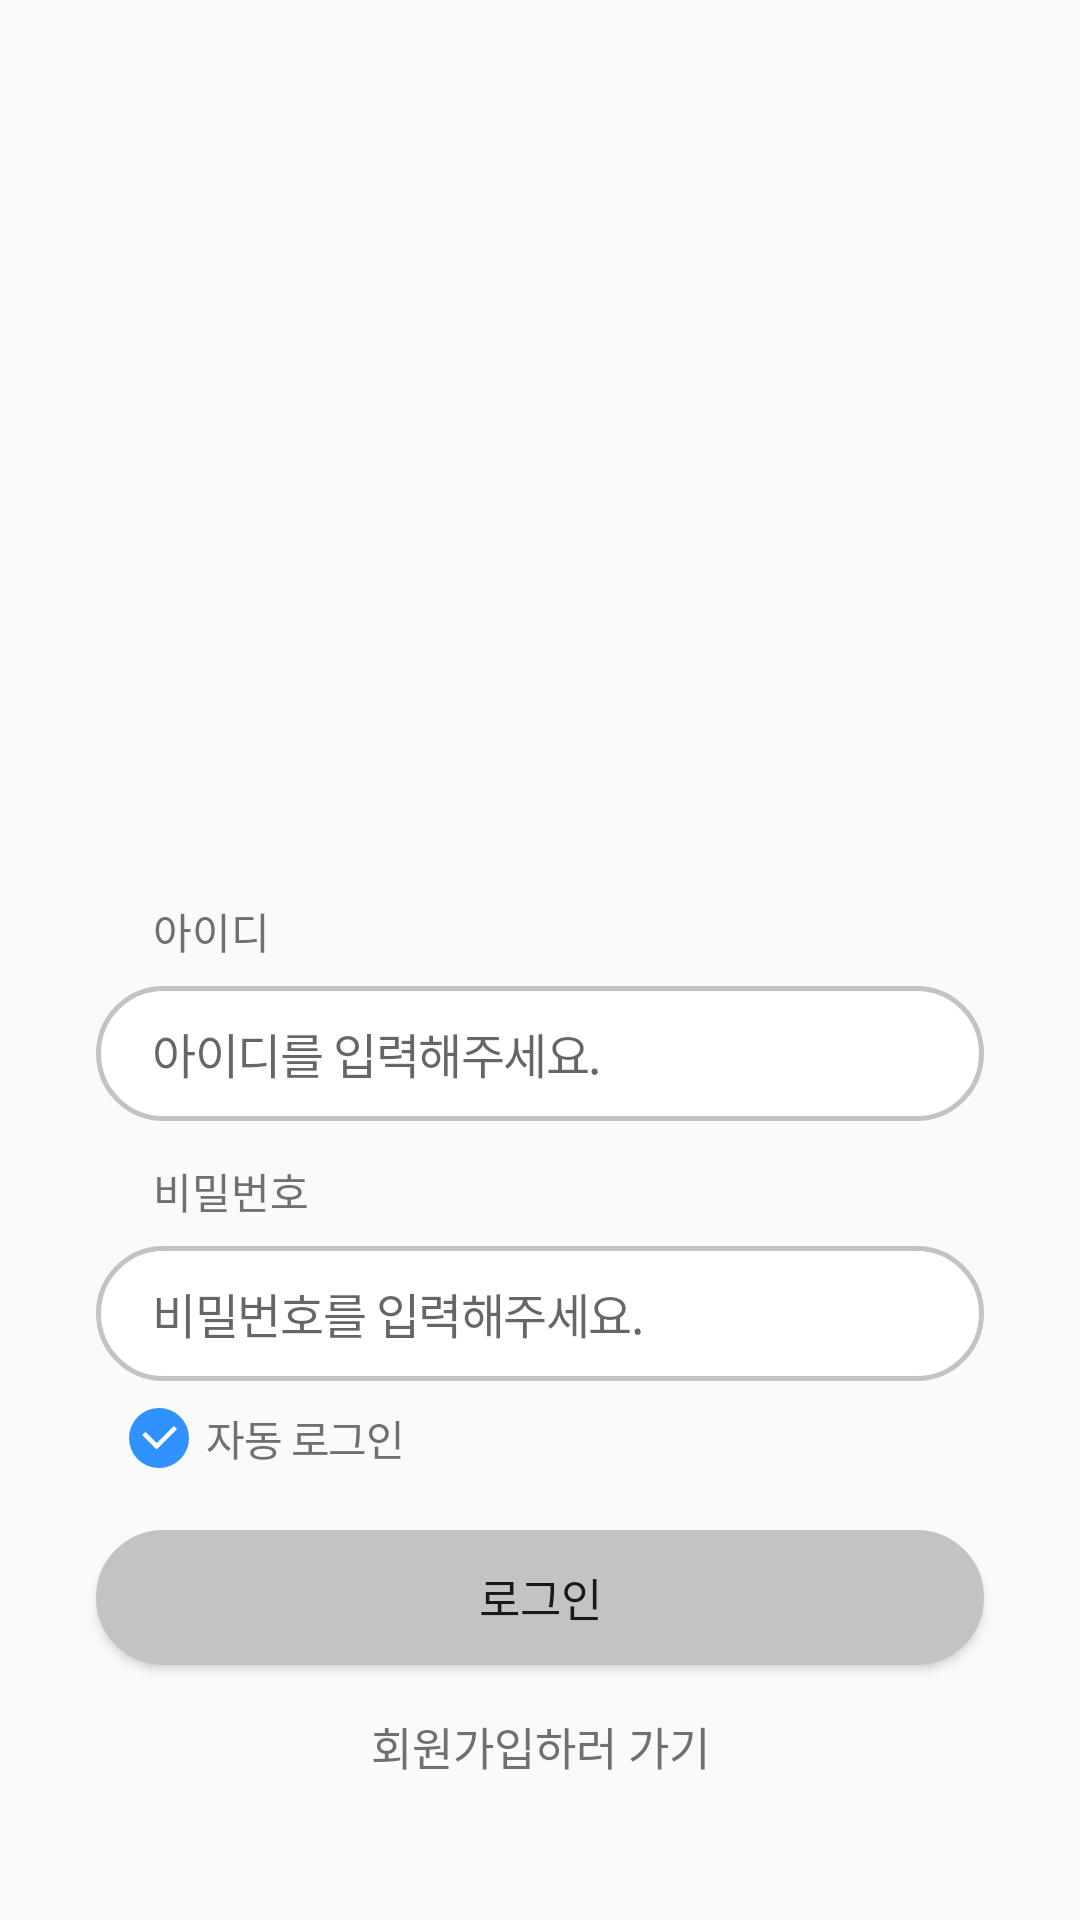

Icon bounding boxes for this 1080×1920 phone screenshot, format bbox(x1, y1, x2, y2):
login activated: bbox(129, 1408, 189, 1468)
